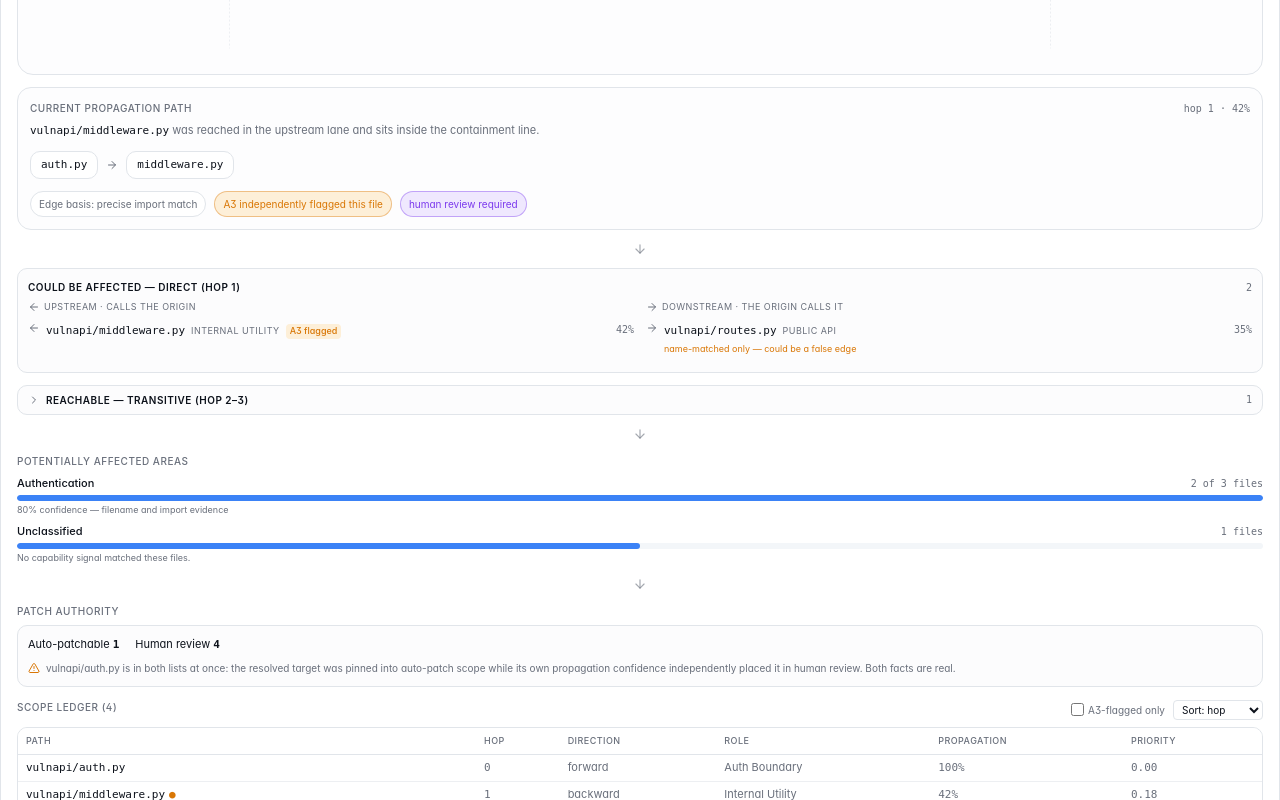
Test case: BlastRadiusPanel › keeps transitive impact separate and collapsed by default
(page scrolled)
Expected: the text "vulnapi/tests/test_routes.py" is not shown
Click the button "Reachable — transitive (hop 2–3) 1" at (147, 400), box x1=18 y1=386 x2=1262 y2=414
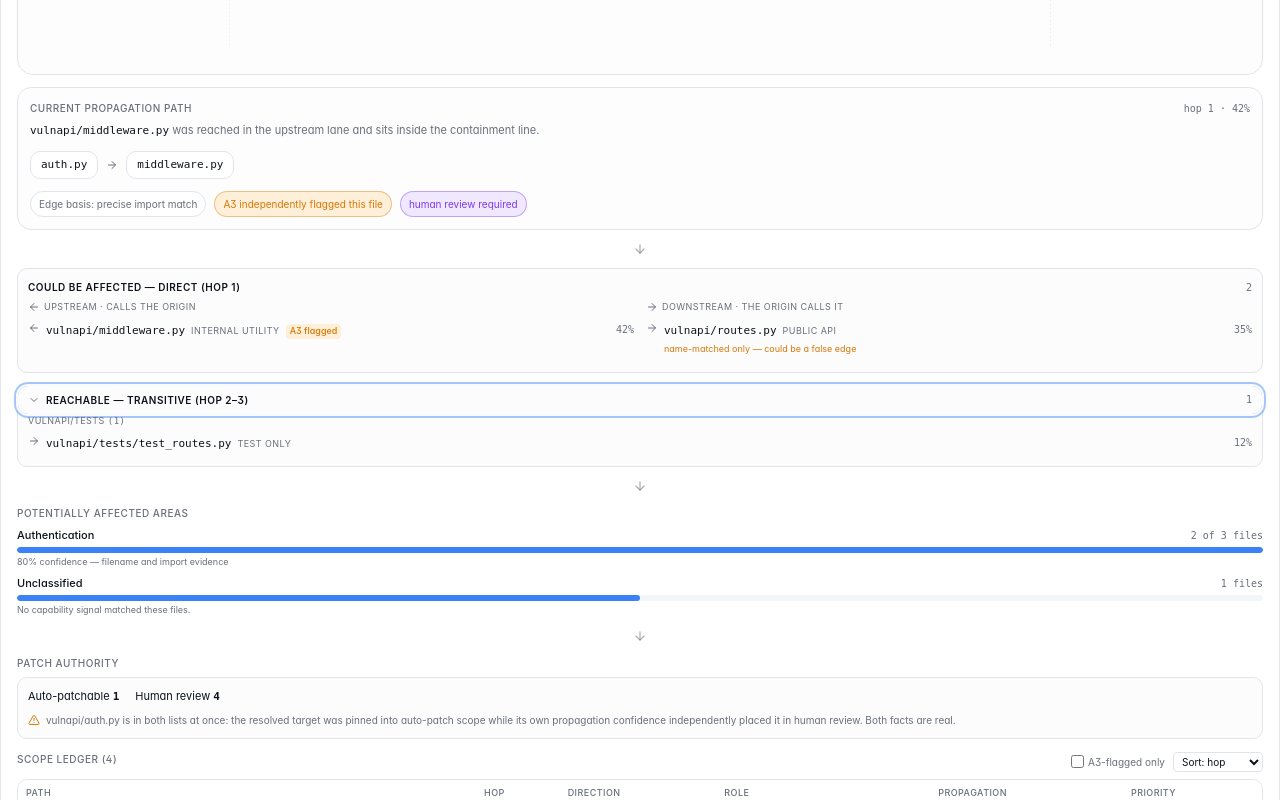
Result: the text "vulnapi/tests/test_routes.py" is shown at x1=46 y1=434 x2=231 y2=452
